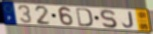2: (34, 5, 51, 26)
3: (18, 5, 34, 25)
6: (57, 6, 74, 27)
D: (75, 7, 94, 28)
J: (121, 11, 135, 29)
S: (99, 9, 119, 29)
